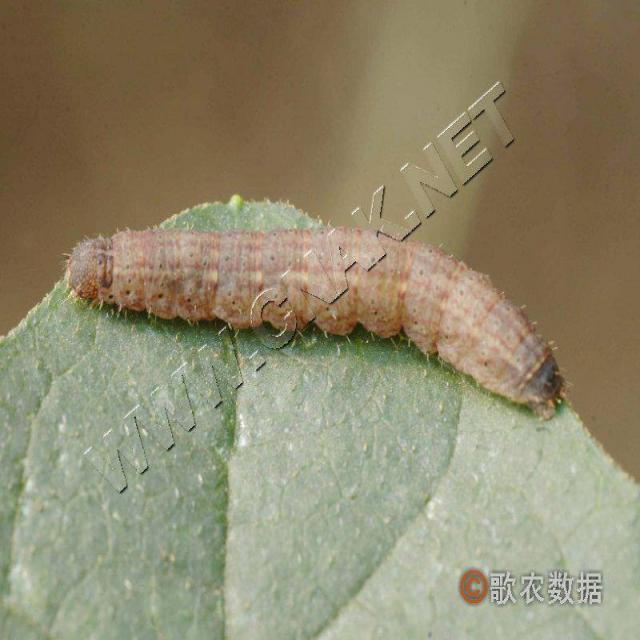armyworm: (62, 225, 572, 419)
